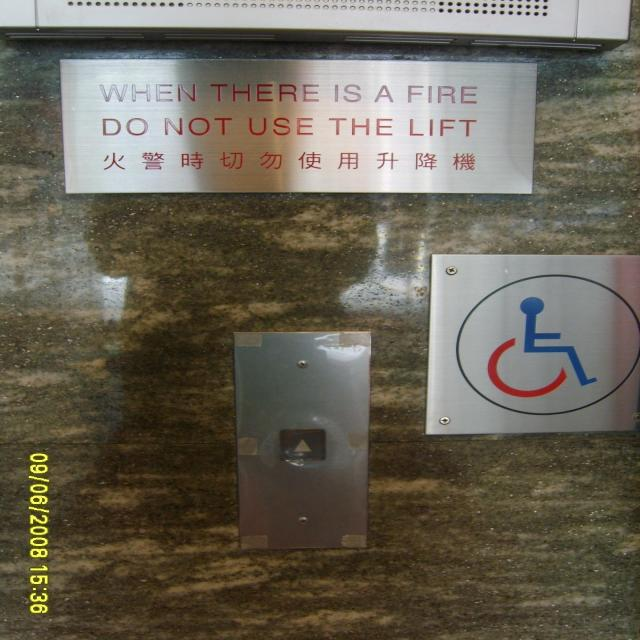CH: (422, 250, 640, 438)
up: (278, 428, 328, 463)
